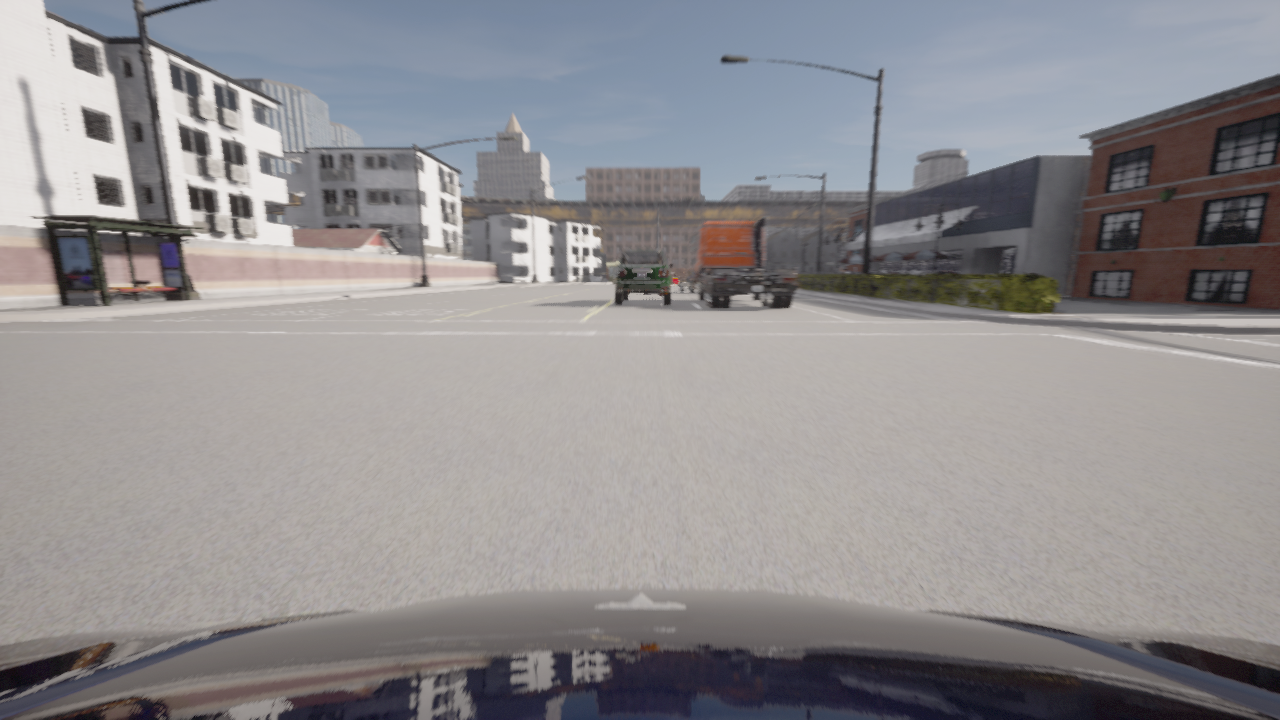cyclist: (0, 588, 1279, 719), (690, 218, 797, 309), (613, 250, 673, 305), (679, 269, 695, 293), (671, 272, 678, 286)
